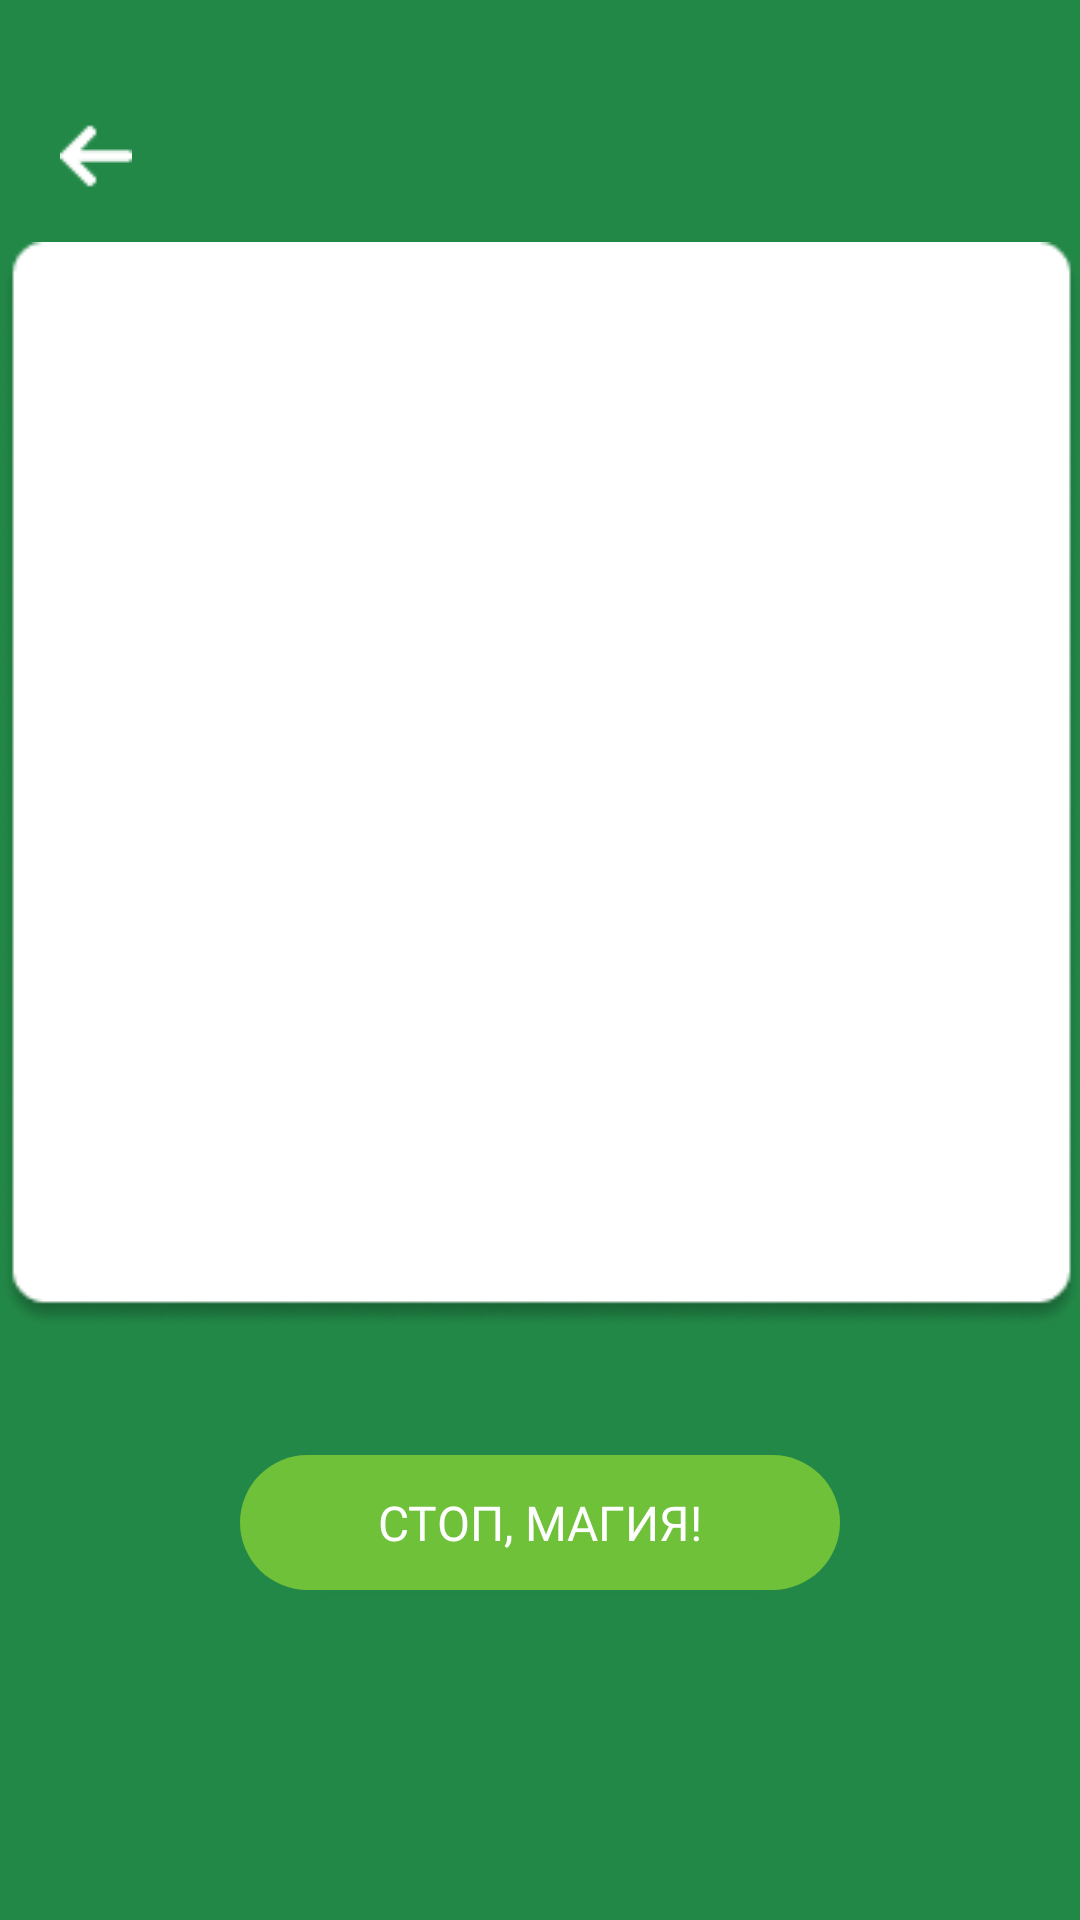

Icons on this 1080px x 1920px Android screen, each with the point to tap as point (x, y):
backbtn: point (96, 156)
